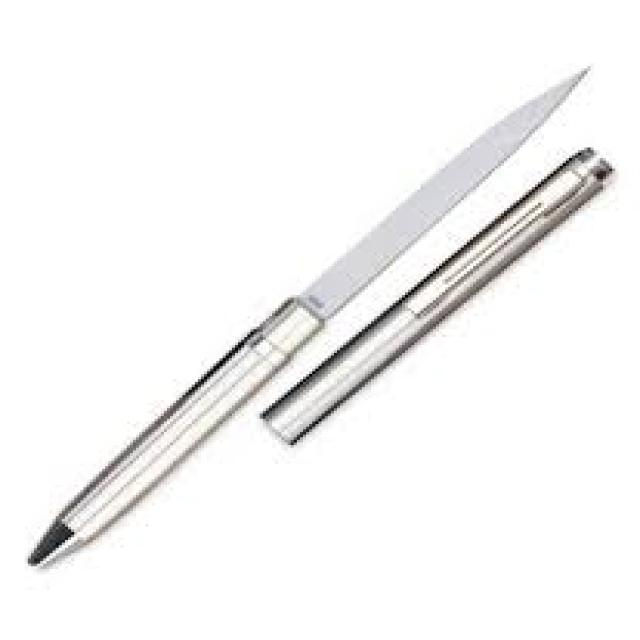knives: (19, 58, 612, 571)
